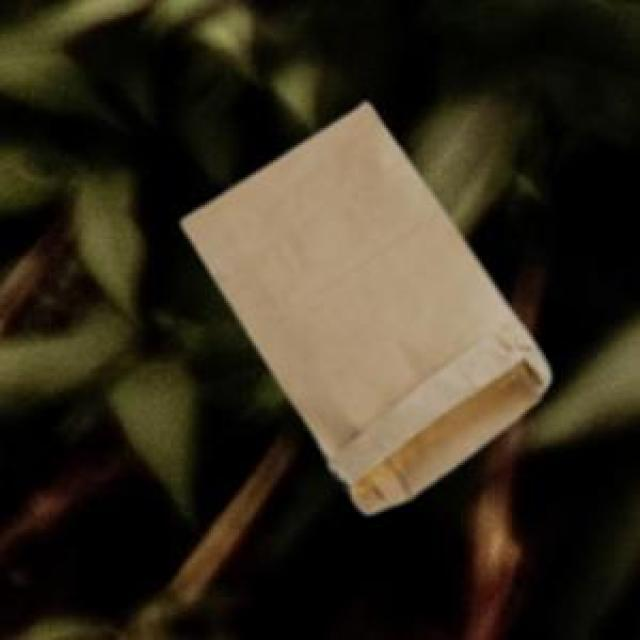paper: (179, 100, 546, 510)
